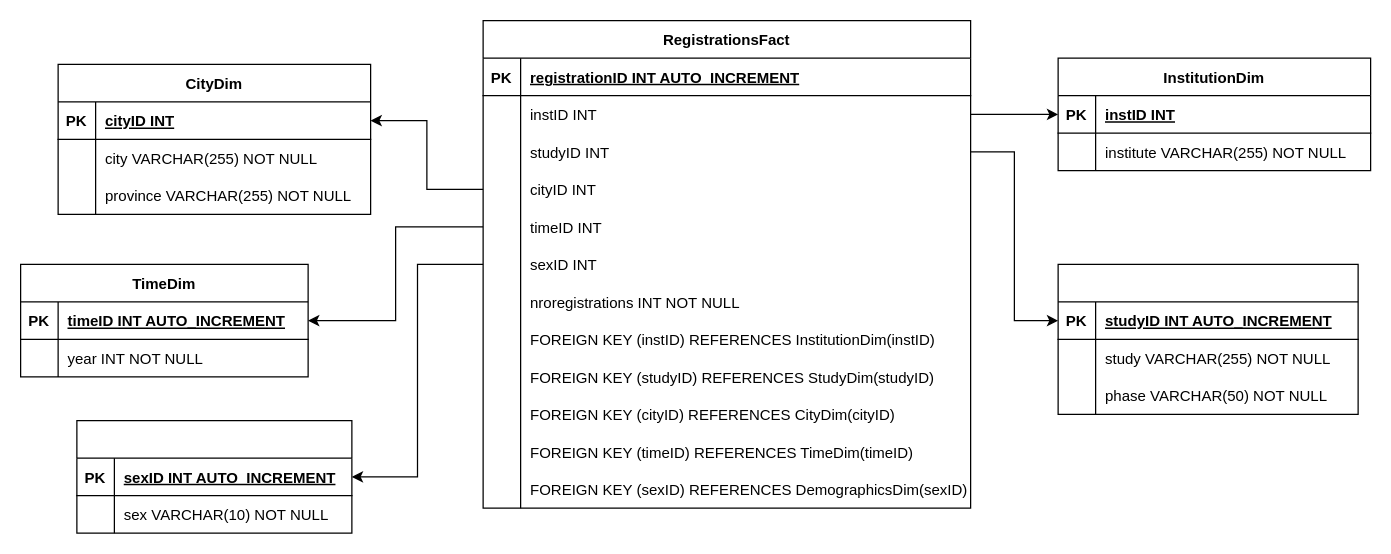
The diagram is 1391 pixels wide and 554 high, and some of its shapes have lost their labels. Each missing label, with the box of its shape:
DemographicsDim: (76, 419, 352, 533)
StudyDim: (1057, 263, 1358, 414)
